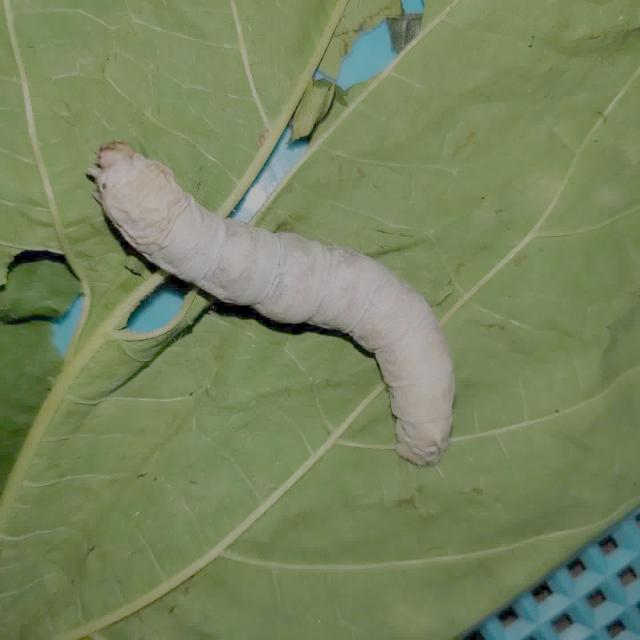Grasserie: (87, 127, 472, 469)
